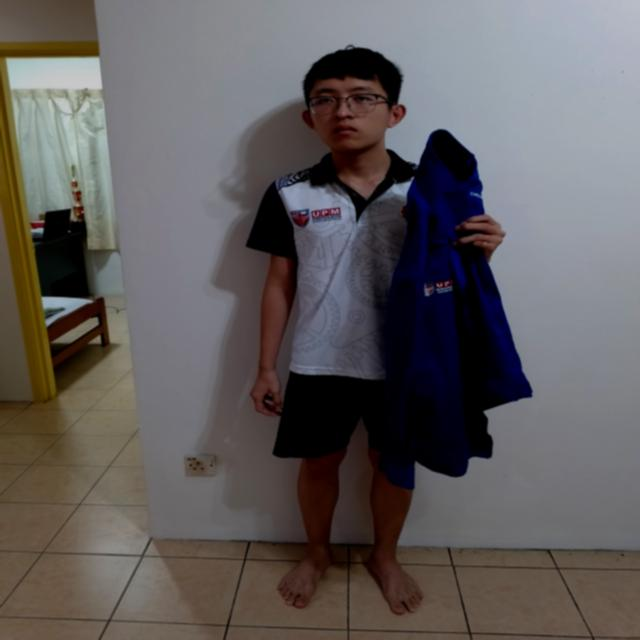person_without_labcoat: (247, 48, 531, 614)
